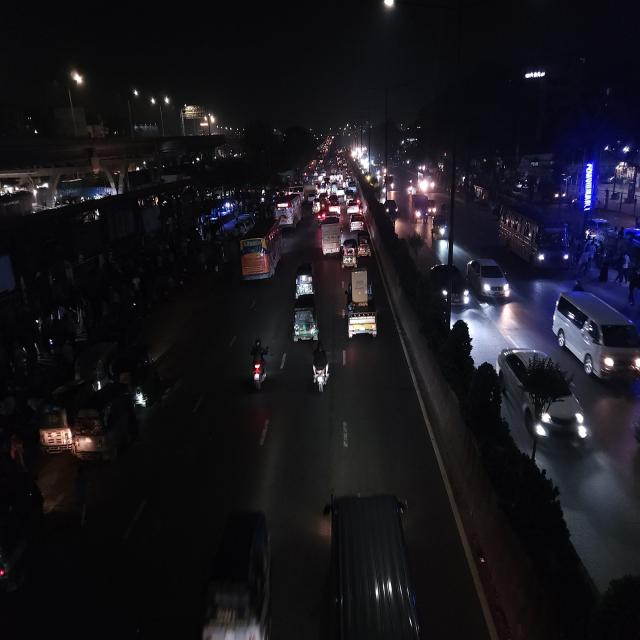bus: (496, 200, 572, 274), (236, 215, 284, 286), (274, 187, 304, 230)
car: (322, 484, 425, 640), (496, 342, 590, 452), (549, 286, 640, 388), (465, 253, 512, 306), (428, 260, 470, 311), (320, 213, 342, 260), (384, 198, 400, 221), (348, 213, 366, 232), (345, 198, 362, 215), (328, 195, 341, 214)
cng: (195, 504, 277, 640), (0, 458, 46, 608), (72, 381, 134, 468), (118, 340, 162, 414), (33, 393, 73, 460), (292, 293, 319, 345), (294, 259, 316, 299), (341, 235, 358, 271), (431, 211, 450, 242), (357, 229, 373, 258)
motorcycle: (308, 338, 331, 398), (248, 336, 270, 396)
pedestrian: (626, 264, 640, 306), (578, 240, 594, 275), (616, 250, 630, 285), (596, 248, 610, 281)
pickup_van: (343, 275, 381, 345)
truck: (412, 192, 432, 224)
